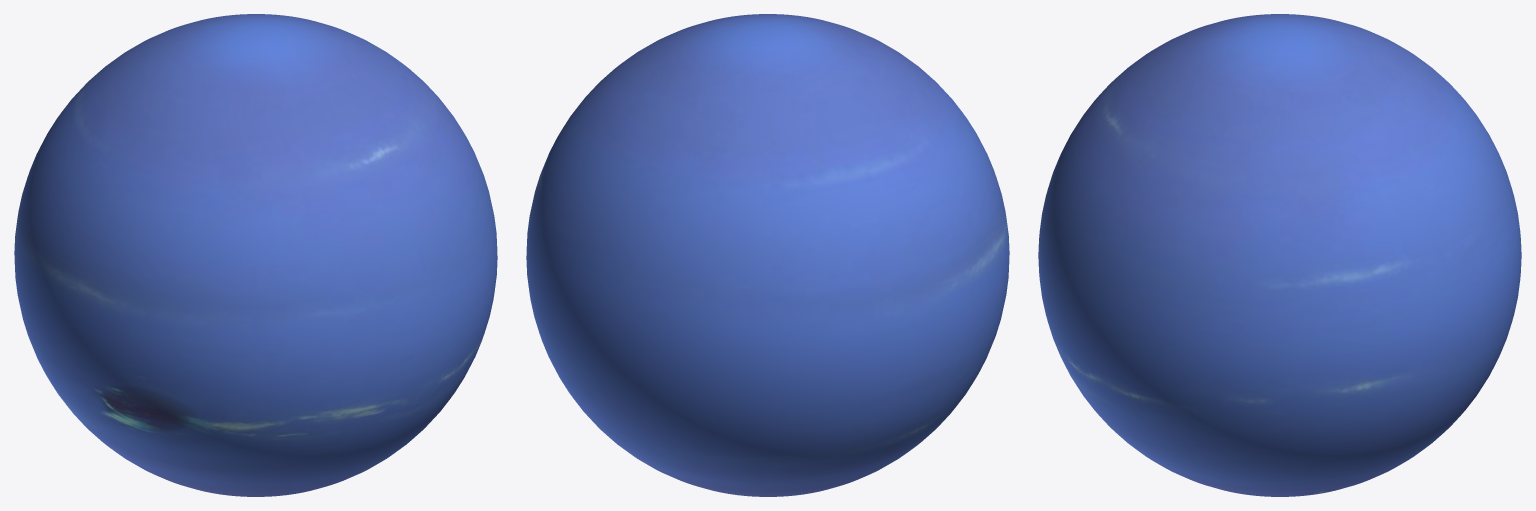
File: Neptune.fbx
3 renders of one model, left to right at view 1: azimuth 30°, elevation 25°; view 2: azimuth 150°, elevation 25°; view 3: azimuth 270°, elevation 25°, orthographic.
Visible parts, largest first — view 1: Planet1surface; view 2: Planet1surface; view 3: Planet1surface.
Part boxes in pixels (x1,y1,x2,y2): Planet1surface: [14, 14, 497, 496]; Planet1surface: [526, 14, 1009, 496]; Planet1surface: [1038, 14, 1521, 496].
Size of the model in its own units: 800 by 800 by 800.
